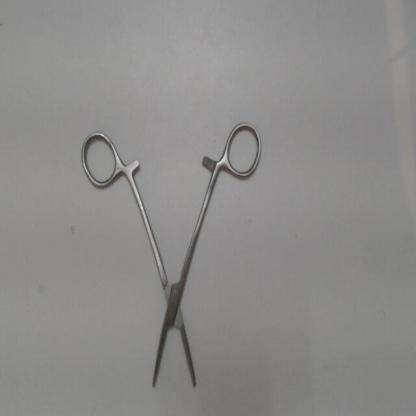Mayo Needle Holder: (76, 115, 266, 395)
